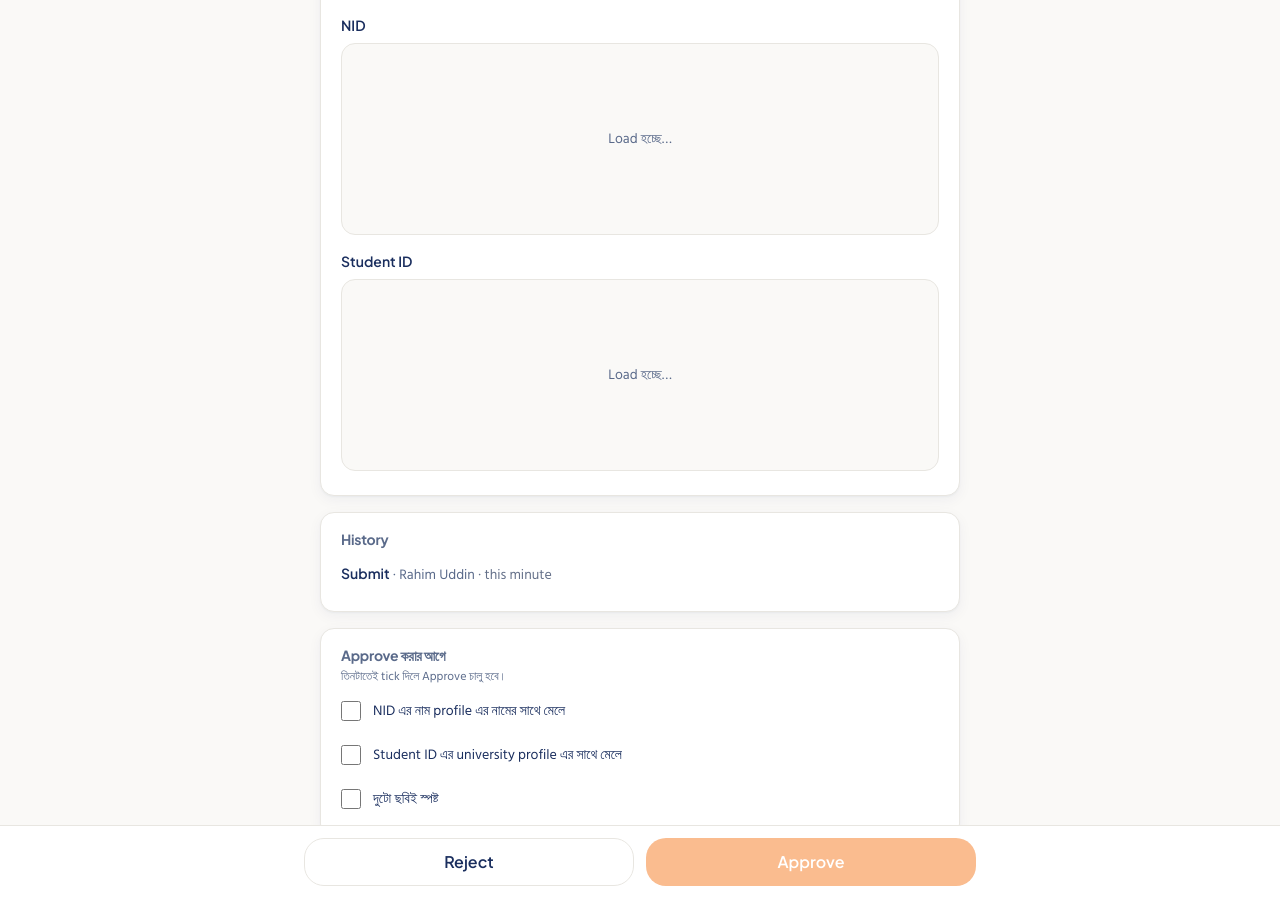
it: VerificationDetail › keeps Approve off until all three checks are ticked
The width and height of the screenshot is (1280, 898).
(page scrolled)
Check: the button "Approve" is disabled, box [646,838,976,886]
Click the checkbox labelled "NID এর নাম profile এর নামের সাথে মেলে": coordinates (351, 711) [341,701,361,721]
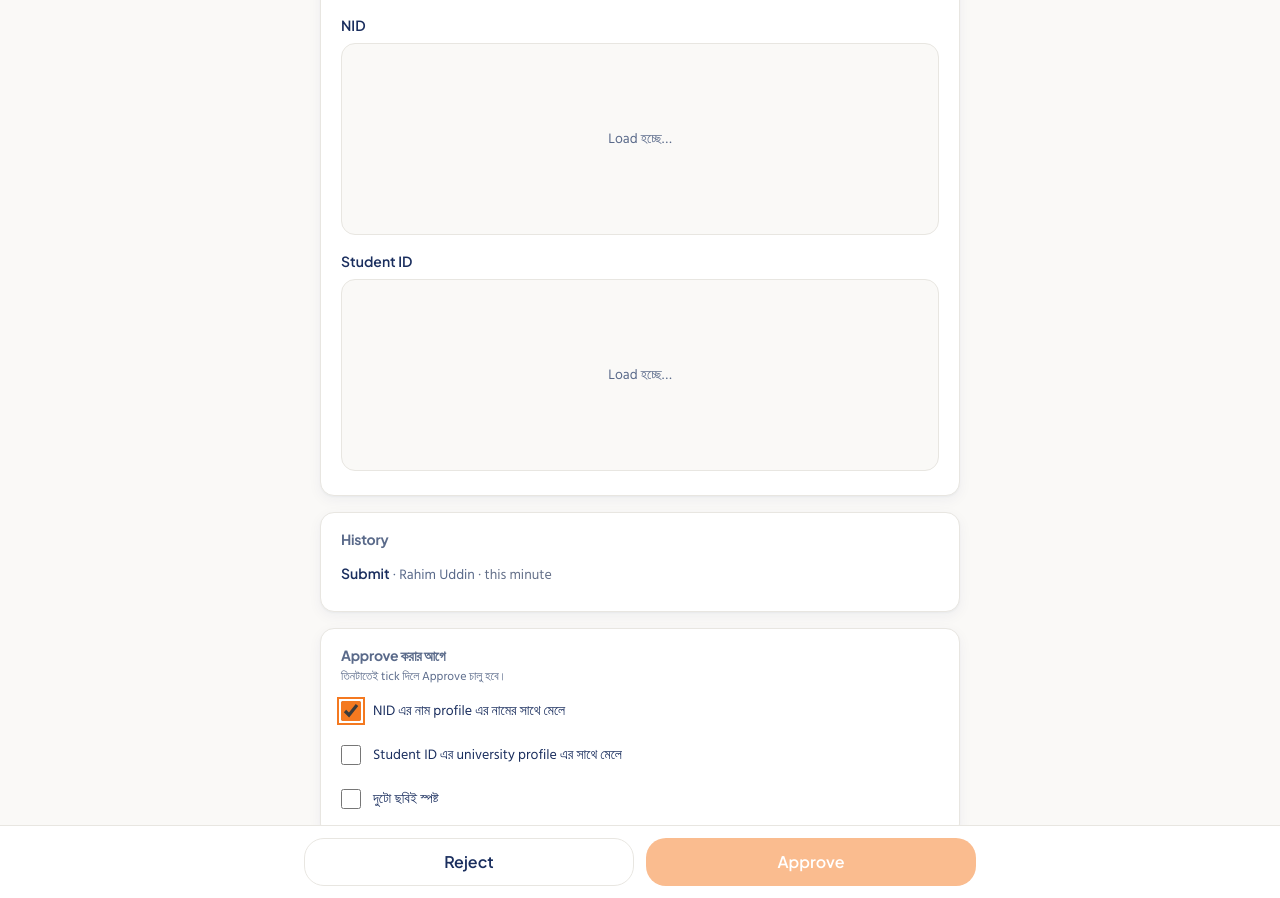
Click the checkbox labelled "Student ID এর university profile এর সাথে মেলে": coordinates (351, 755) [341,745,361,765]
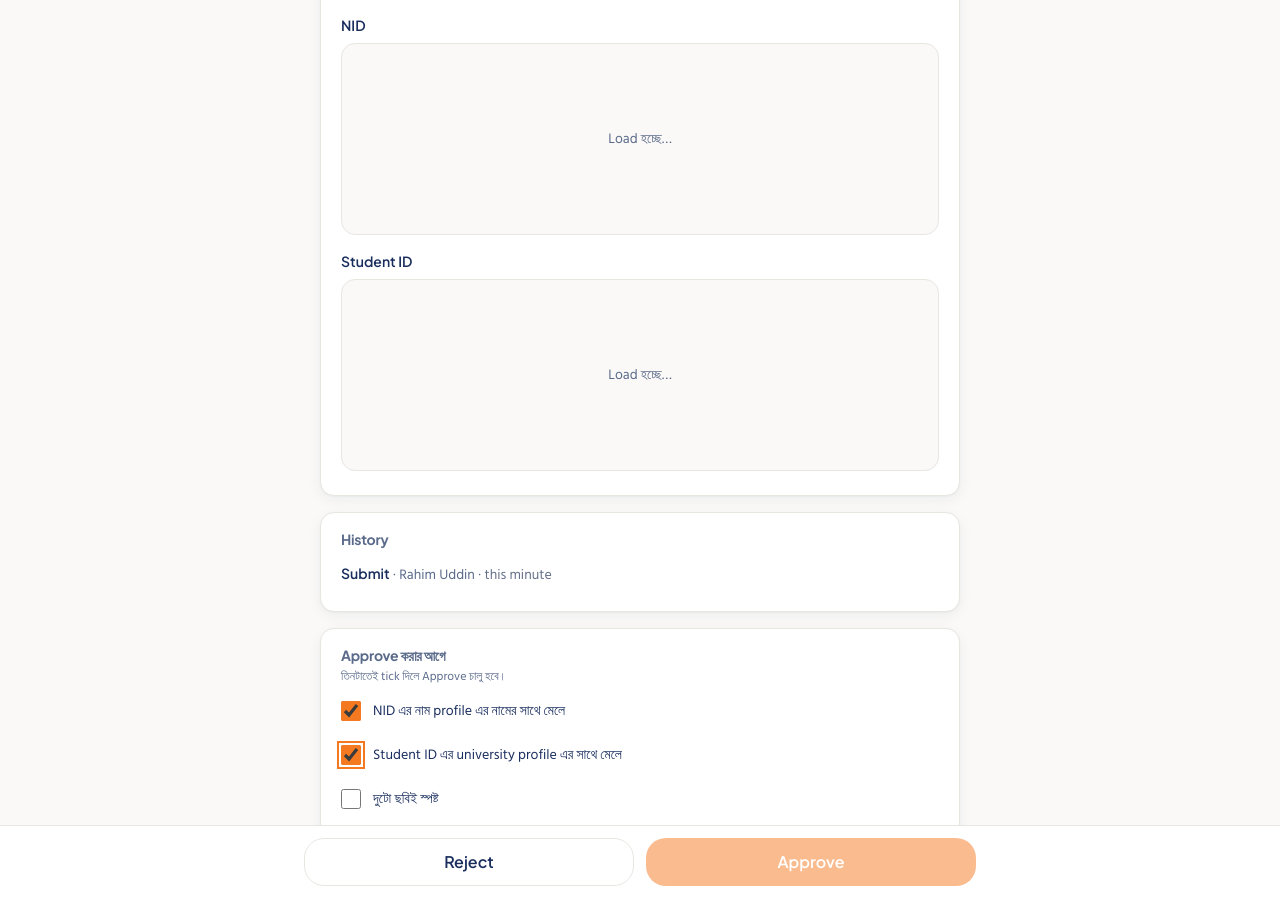
Click the checkbox labelled "দুটো ছবিই স্পষ্ট": coordinates (351, 799) [341,789,361,809]
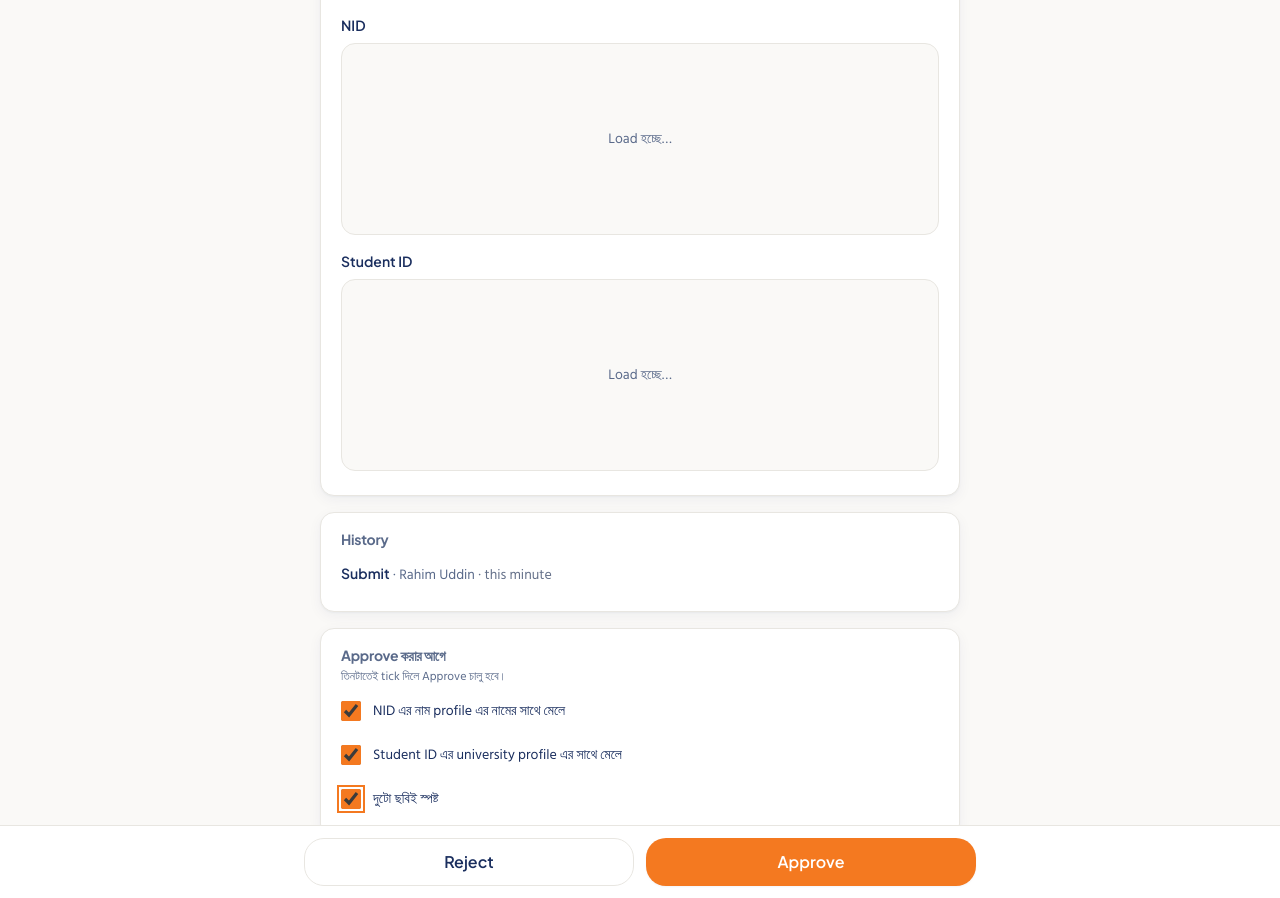
Check: the button "Approve" is enabled, box [646,838,976,886]
